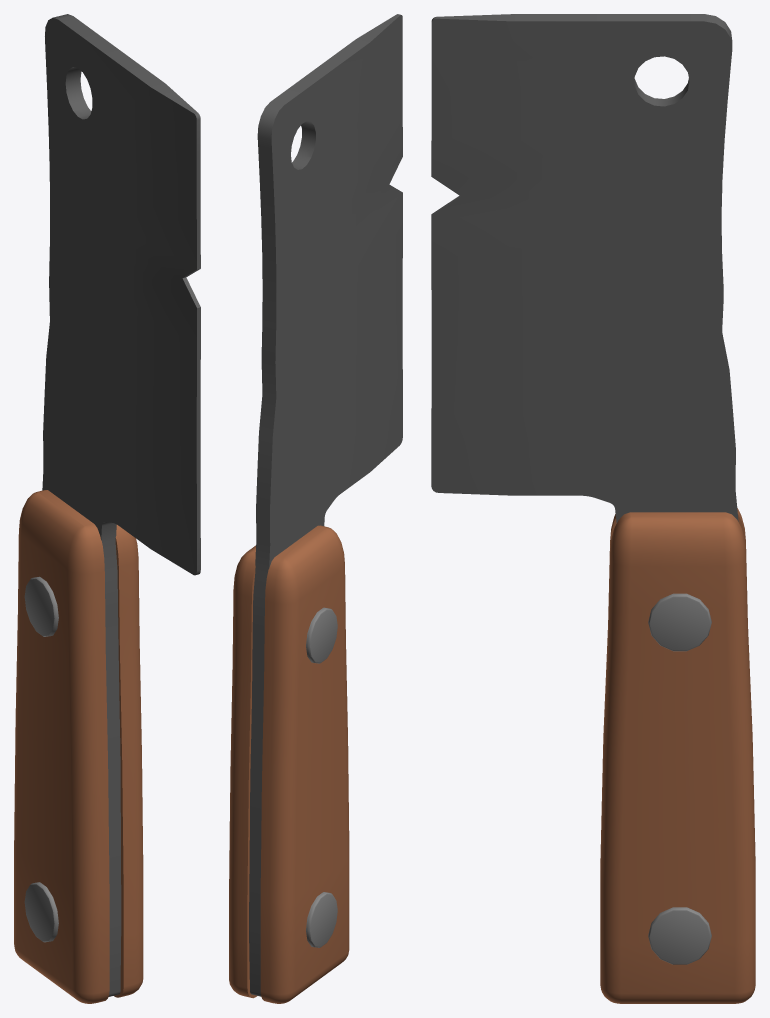
File: scene_lb3PEH7lBS.glb
3 renders of one model, left to right at view 1: azimuth 30°, elevation 25°; view 2: azimuth 150°, elevation 25°; view 3: azimuth 270°, elevation 25°, orthographic. The views are drawn at different scales.
Parts seen in each view (by area): view 1: Cube, Cube.001, Cylinder_Cylinder.002, Cylinder.001_Cylinder.003; view 2: Cube, Cube.001, Cylinder_Cylinder.002, Cylinder.001_Cylinder.003; view 3: Cube, Cube.001, Cylinder_Cylinder.002, Cylinder.001_Cylinder.003.
Part boxes in pixels (x1=…): Cube: x1=42, y1=14, x2=200, y2=996; Cube.001: x1=14, y1=490, x2=143, y2=1003; Cylinder_Cylinder.002: x1=24, y1=576, x2=58, y2=636; Cylinder.001_Cylinder.003: x1=24, y1=882, x2=58, y2=942; Cube: x1=249, y1=14, x2=402, y2=996; Cube.001: x1=229, y1=525, x2=349, y2=1003; Cylinder_Cylinder.002: x1=306, y1=607, x2=337, y2=663; Cylinder.001_Cylinder.003: x1=306, y1=892, x2=337, y2=947; Cube: x1=431, y1=14, x2=738, y2=523; Cube.001: x1=600, y1=508, x2=755, y2=1003; Cylinder_Cylinder.002: x1=648, y1=593, x2=711, y2=651; Cylinder.001_Cylinder.003: x1=648, y1=907, x2=711, y2=964.
Size of the model in its own units: 0.5877 by 6.92 by 2.09.
